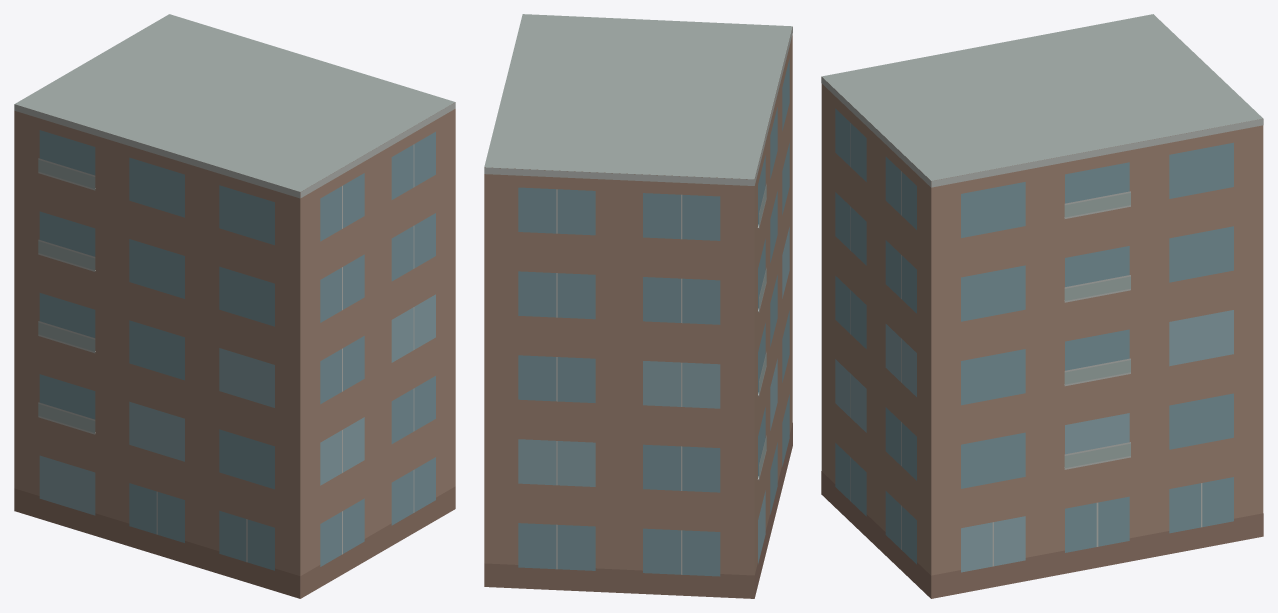
The model's file is residential-7abeabf4-d6bc-4a99-a353-ba175b9d03b6.glb.
3 renders of one model, left to right at view 1: azimuth 30°, elevation 25°; view 2: azimuth 150°, elevation 25°; view 3: azimuth 270°, elevation 25°, orthographic. The views are drawn at different scales.
Visible parts, largest first — view 1: residential-7abeabf4-d6bc-4a99-a353-ba175b9d03b6.tmp; view 2: residential-7abeabf4-d6bc-4a99-a353-ba175b9d03b6.tmp; view 3: residential-7abeabf4-d6bc-4a99-a353-ba175b9d03b6.tmp.
Boxes of the visible parts, x1,y1,x2,y2 form: residential-7abeabf4-d6bc-4a99-a353-ba175b9d03b6.tmp: [14, 14, 455, 598]; residential-7abeabf4-d6bc-4a99-a353-ba175b9d03b6.tmp: [484, 14, 792, 598]; residential-7abeabf4-d6bc-4a99-a353-ba175b9d03b6.tmp: [821, 14, 1263, 598].
Bounding box in the file's own units: 13.08 × 15.25 × 14.63.
